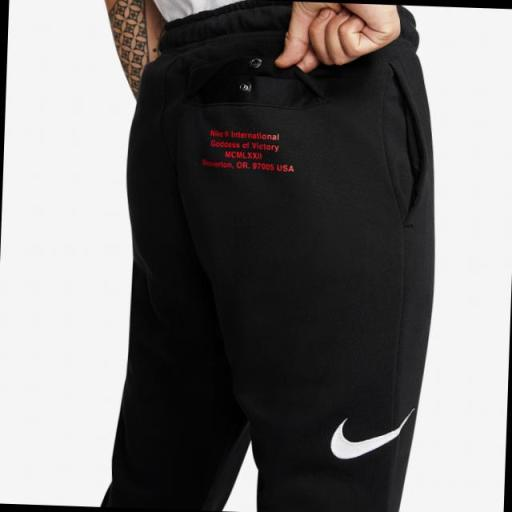Nike: (327, 404, 415, 462)
